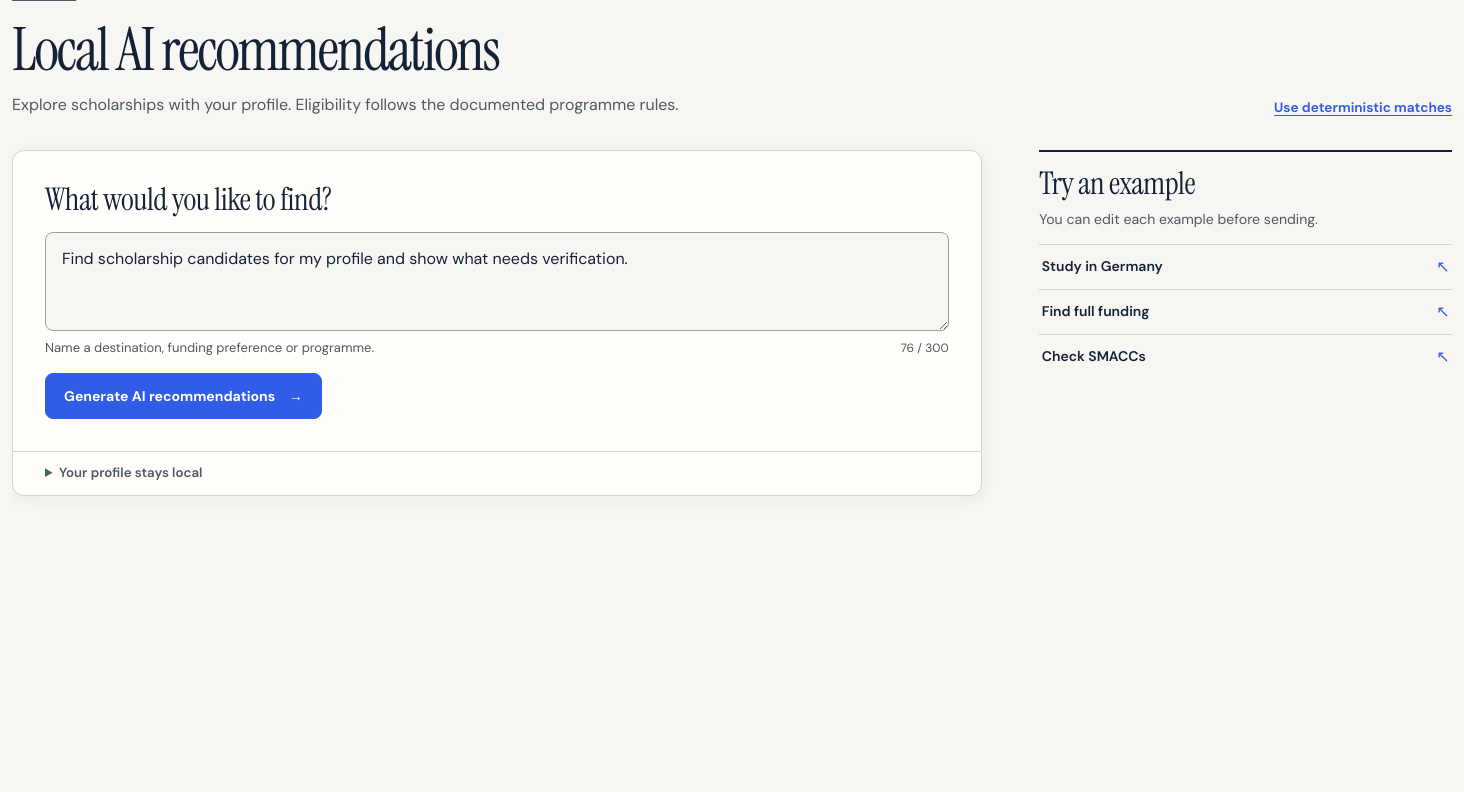
local agent recommendations › preserves a named negative target and its disqualifying requirement
Click the button "Generate AI recommendations →".
click(183, 396)  # box [45,373,322,419]
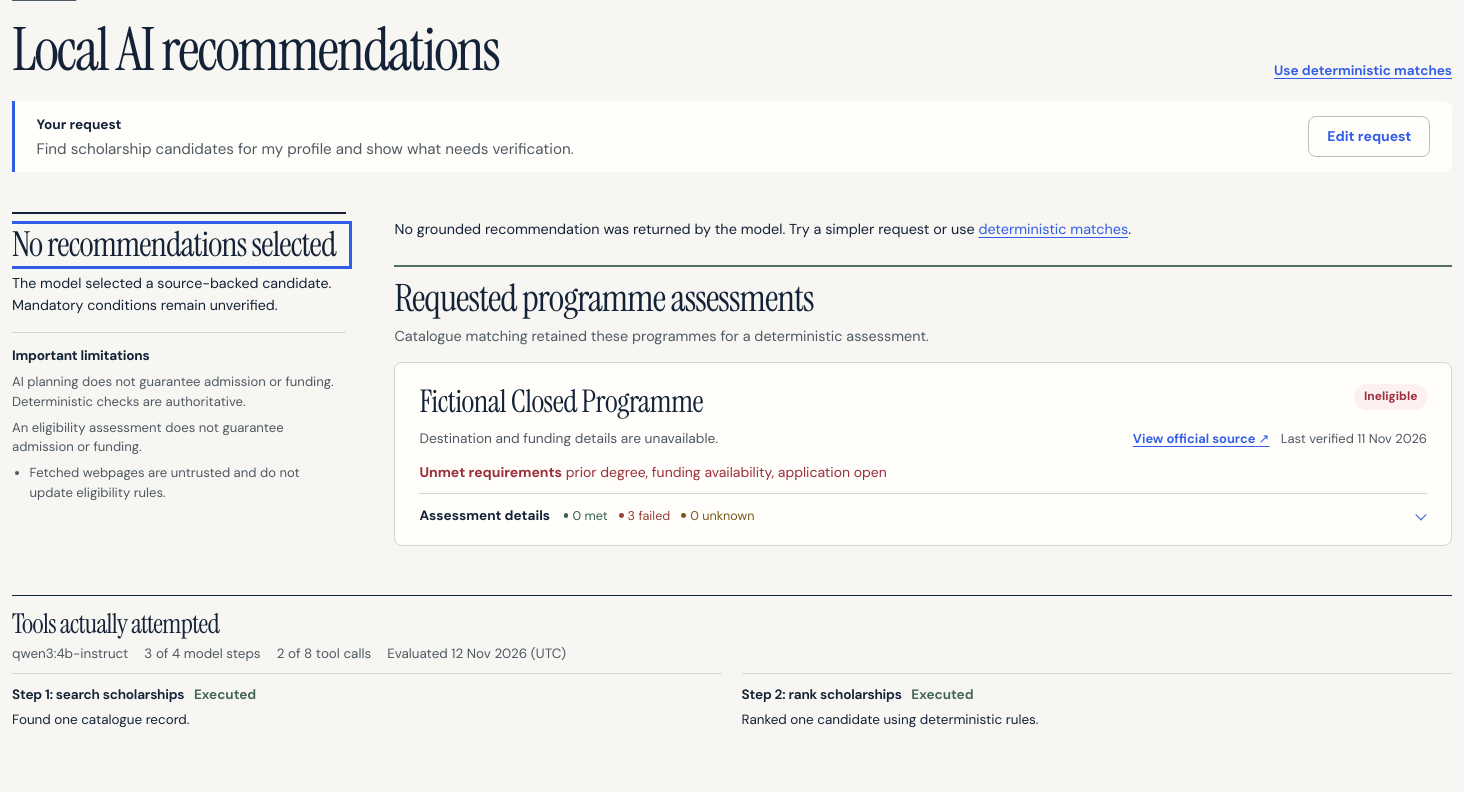
Now the heading "Fictional Closed Programme" is shown, box [420,384,703,419]
Now the text "Ineligible" is shown, box [1354,384,1427,410]
Now the text "Unmet requirements" is shown, box [420,463,562,481]
Click the text "Assessment details".
click(485, 516)  # box [420,505,550,526]
(page scrolled)
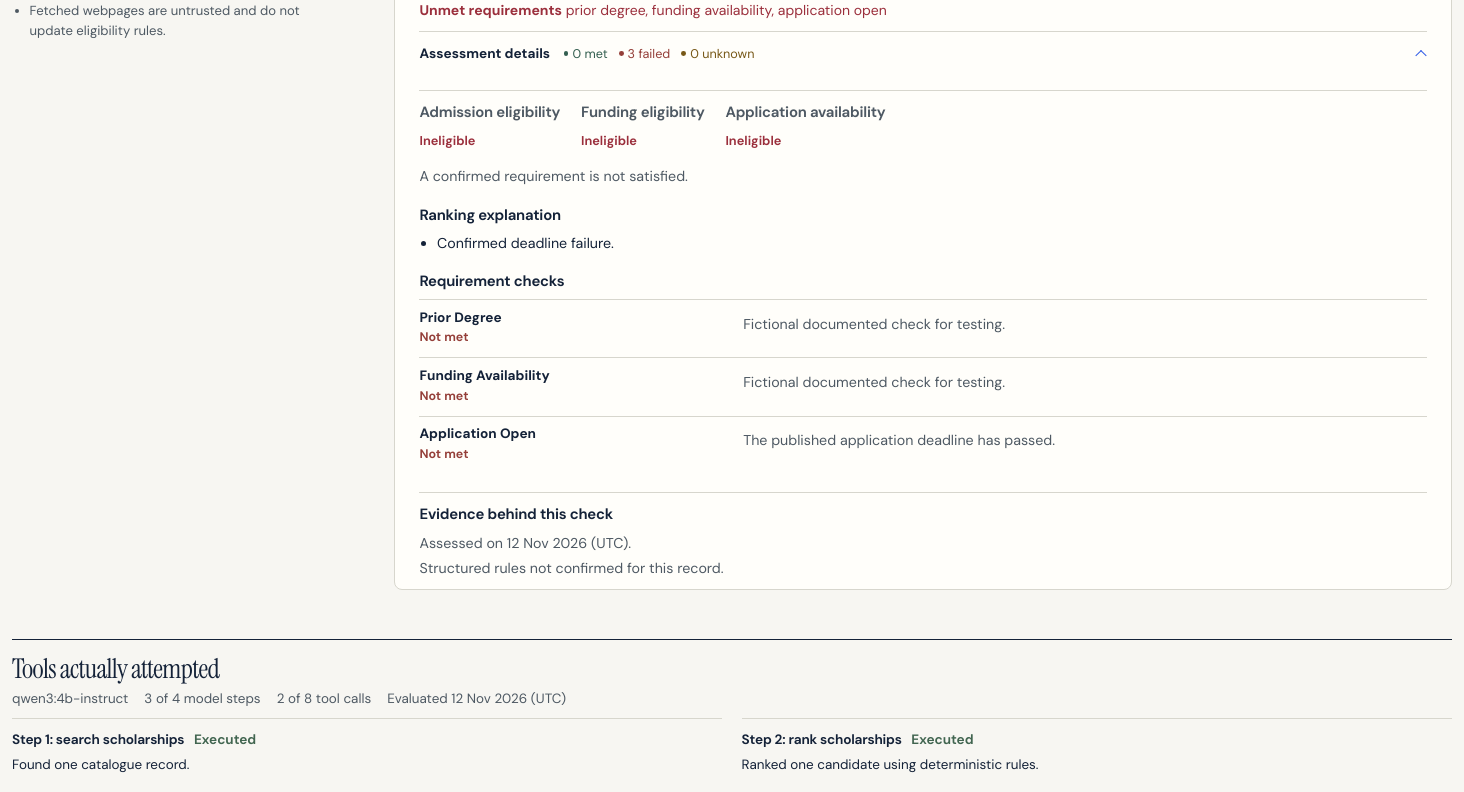
Now the text "The published application deadline has passed." is shown, box [743,431,1055,449]
